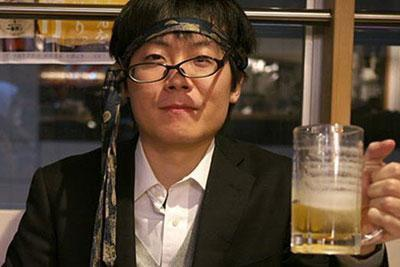Drunk: (133, 27, 229, 142)
